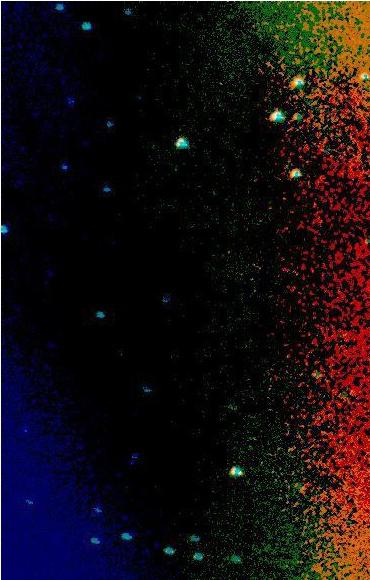star: (338, 373, 368, 403)
